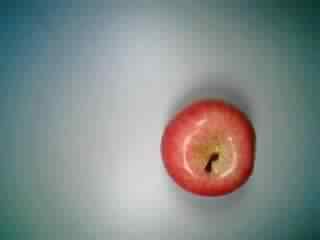apple: (157, 93, 263, 197)
